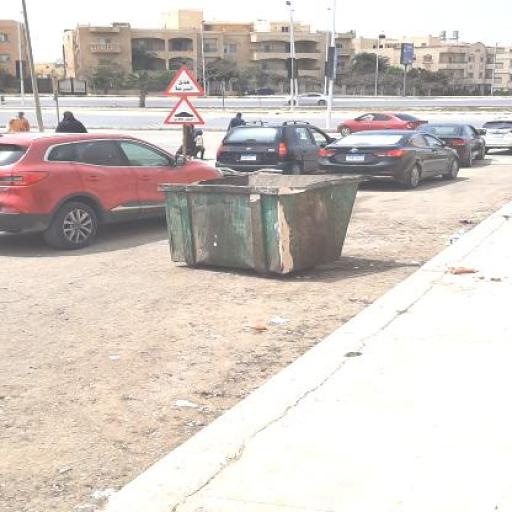street light: (286, 2, 294, 112), (17, 11, 26, 107), (376, 31, 386, 97), (324, 8, 331, 96), (200, 20, 206, 95)
